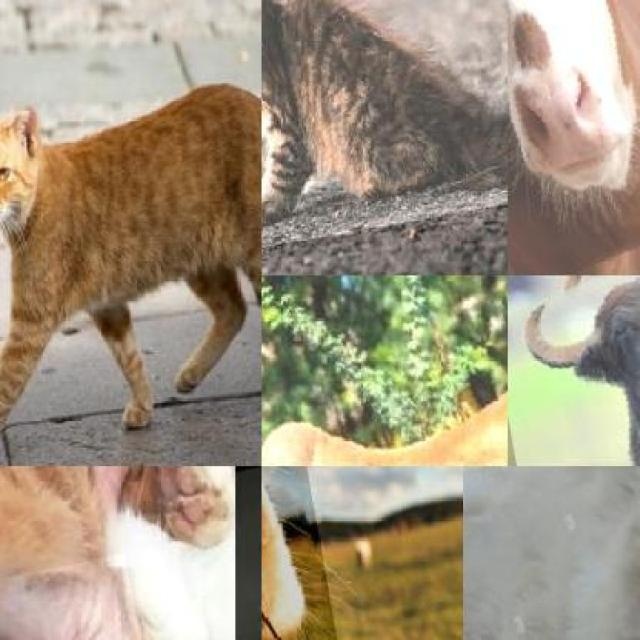buffalo: (507, 275, 640, 466)
cat: (0, 64, 262, 418), (262, 0, 508, 262), (0, 466, 235, 640), (463, 466, 640, 640)
cow: (262, 276, 508, 467), (507, 0, 640, 275), (262, 466, 364, 640)
injured: (0, 552, 171, 640)
